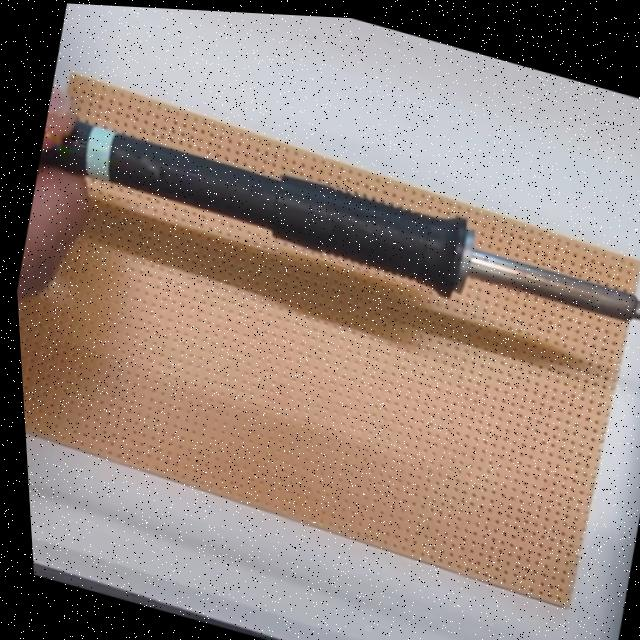soldering_iron: (32, 97, 640, 354)
